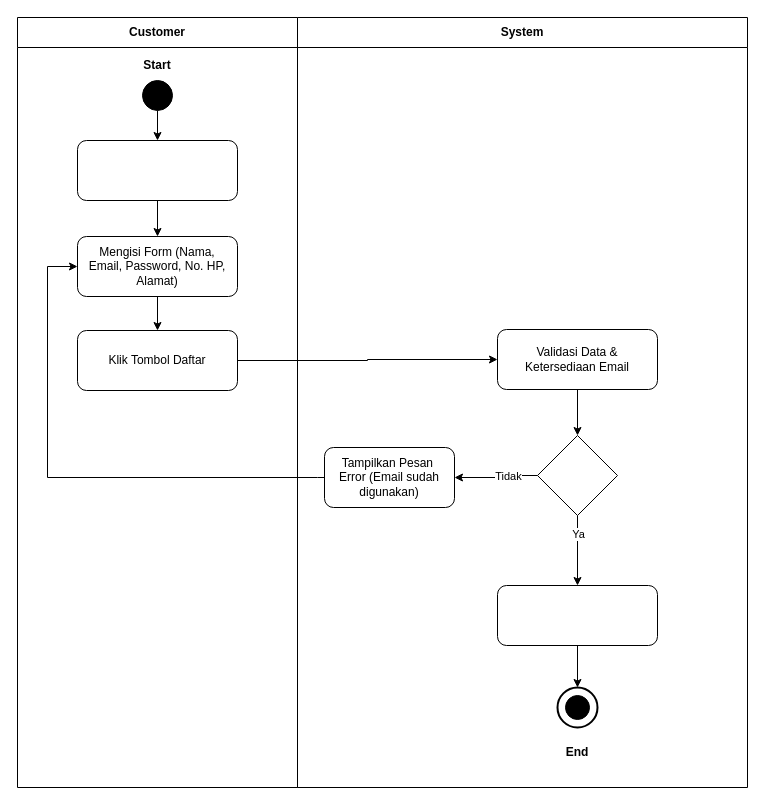
Image size: 765x805. Some labels were removed from this diagram. Each missing label, with the centre of its shape:
"Mengakses Halaman Registrasi" goes at (x=157, y=170).
"Simpan Data Pengguna & Tampilkan Notifikasi Sukses" goes at (x=577, y=615).
"Valid?" goes at (x=577, y=475).
